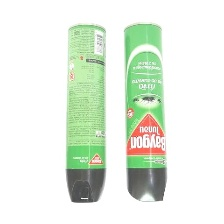aerosol_cans: (119, 20, 170, 204), (63, 20, 111, 205)
